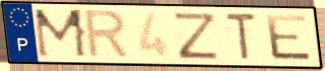4: (135, 10, 171, 60)
E: (263, 13, 315, 63)
M: (31, 8, 91, 60)
R: (83, 8, 134, 61)
T: (223, 11, 260, 62)
Z: (171, 10, 222, 61)
